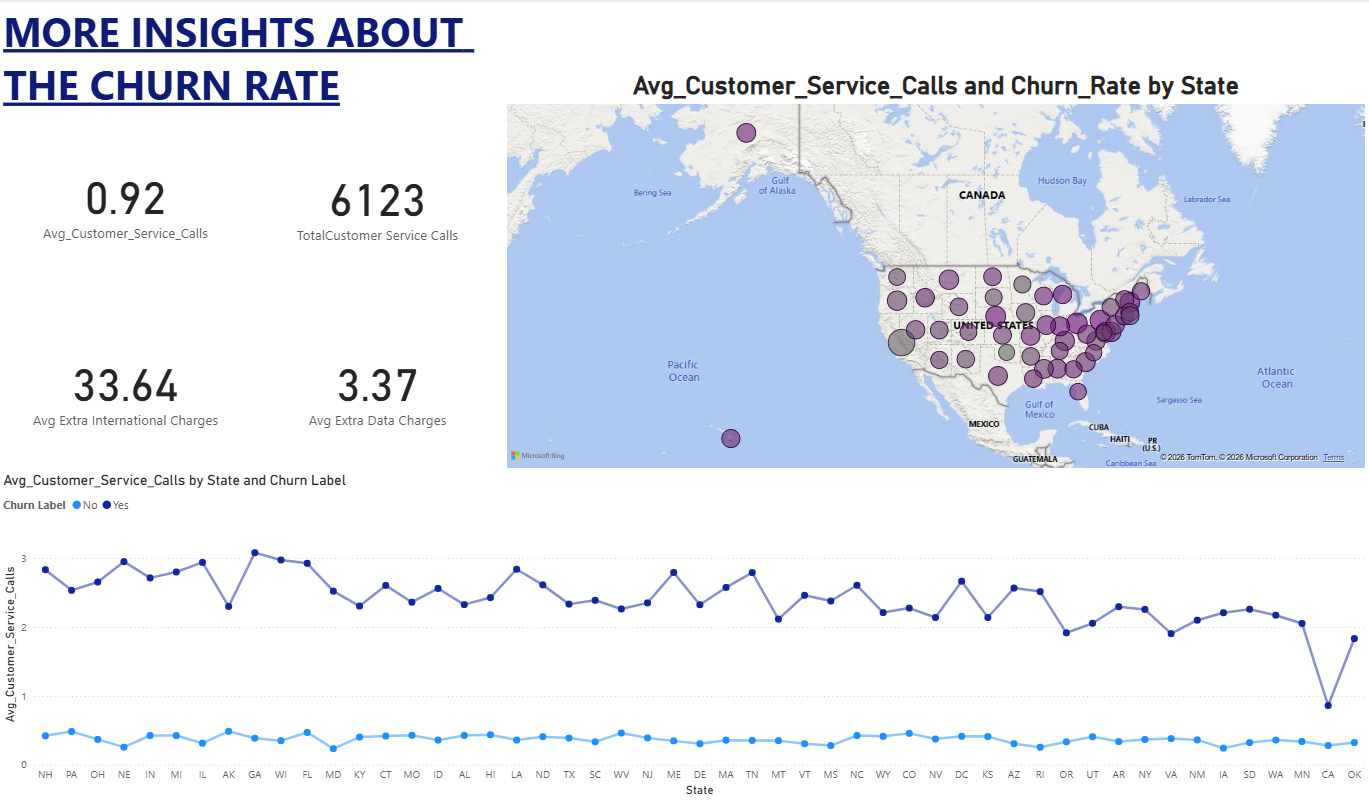

What the dashboard file says about the page in this screenshot:
{"tool":"powerbi","page":{"name":"Insights","canvas":[1640,960],"ordinal":4},"visuals":[{"type":"card","fields":{"Values":["Sum(Databel - Data.Customer Service Calls)"]},"box":[302.8,123.3,300.4,241.8],"z":0},{"type":"card","fields":{"Values":["Databel - Data.Avg_Customer_Service_Calls"]},"box":[0,120.9,302.8,241.8],"z":1000},{"type":"card","fields":{"Values":["Databel - Data.Avg Extra International Charges"]},"box":[0,365.1,302.8,201.1],"z":2000},{"type":"card","fields":{"Values":["Databel - Data.Avg Extra Data Charges"]},"box":[302.8,365.1,300.4,201.1],"z":3000},{"type":"lineChart","fields":{"Category":["Databel - Data.State"],"Y":["Databel - Data.Avg_Customer_Service_Calls"],"Series":["Databel - Data.Churn Label"]},"box":[0,566.2,1639.9,393.8],"z":4000},{"type":"map","fields":{"Category":["Databel - Data.State"],"Size":["Databel - Data.Churn_Rate"],"Y":["Databel - Data.Avg_Customer_Service_Calls"]},"box":[603.3,86.2,1036.6,480],"z":5000},{"type":"textbox","box":[0,0,603.3,148.4],"z":6000}]}

Visuals, with their boxes in screenshot pixels (x1, y1, x2, y2), scaled from the page's 1640x960 canvas onto the 1369x801 screenshot:
card - Sum(Databel - Data.Customer Service Calls): 253:103:504:305
card - Databel - Data.Avg_Customer_Service_Calls: 0:101:253:303
card - Databel - Data.Avg Extra International Charges: 0:305:253:472
card - Databel - Data.Avg Extra Data Charges: 253:305:504:472
lineChart - Databel - Data.State x Databel - Data.Avg_Customer_Service_Calls: 0:472:1368:800
map - Databel - Data.State x Databel - Data.Churn_Rate: 504:72:1368:472
textbox: 0:0:504:124
